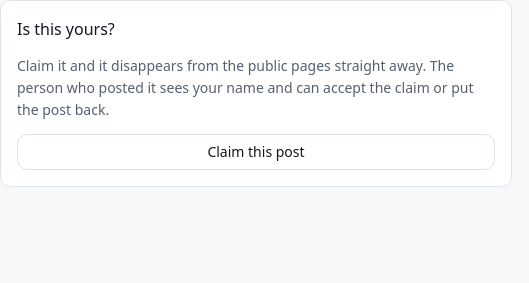
Scenario: ContentClaimPanel › keeps the form and explains a post someone else already claimed
Click the button "Claim this post" at (256, 152), box [17,134,495,170]
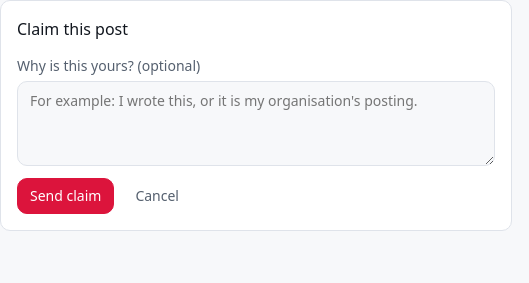
Click the button "Send claim" at (66, 196), box [17,178,114,214]
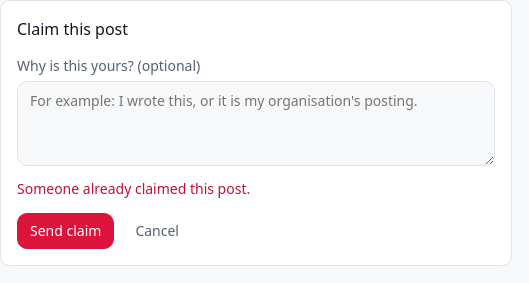
Result: the button "Send claim" is shown at [17,212,114,248]
Result: the text "Someone already claimed this post." is shown at [17,179,250,198]
